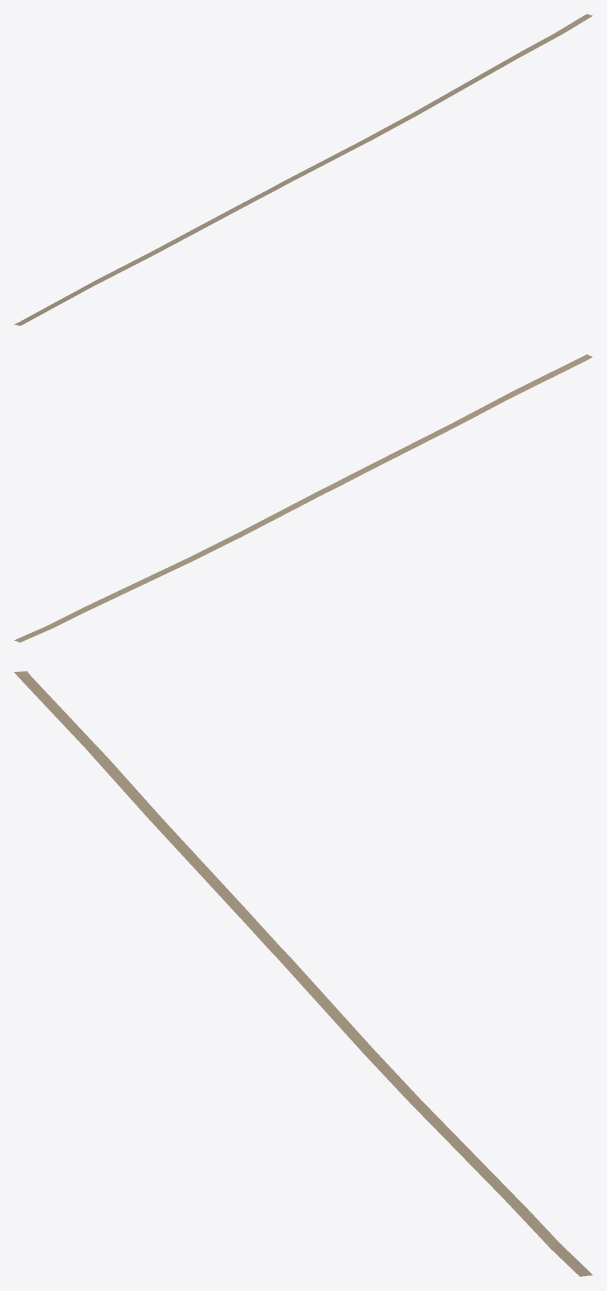
Rendered from farm_18_17_track.glb.
3 views of the same model, one above another, from view 1: azimuth 30°, elevation 25°; view 2: azimuth 210°, elevation 25°; view 3: azimuth 270°, elevation 25° (orthographic). The views are drawn at different scales.
Parts seen in each view (by area): view 1: geometry_0; view 2: geometry_0; view 3: geometry_0.
Part boxes in pixels (<box>): geometry_0: <box>14,14,592,325</box>; geometry_0: <box>14,354,592,642</box>; geometry_0: <box>14,671,592,1276</box>.
Bounding box in the file's own units: 350 × 5.86 × 136.
